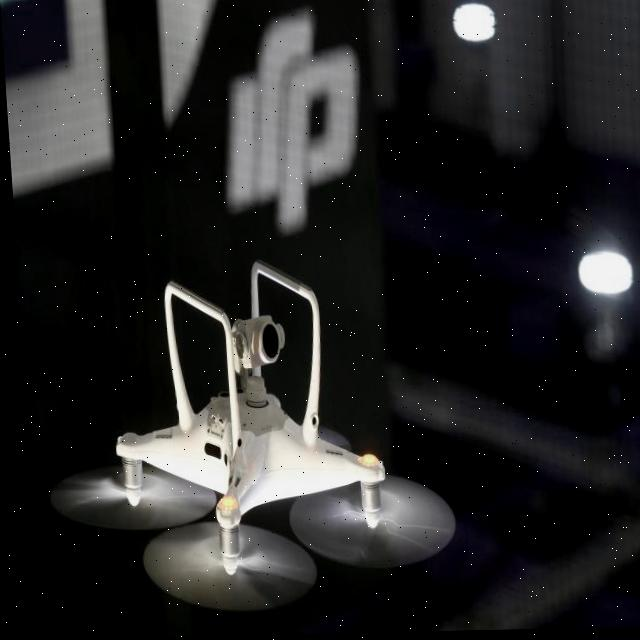drone: (48, 282, 443, 602)
